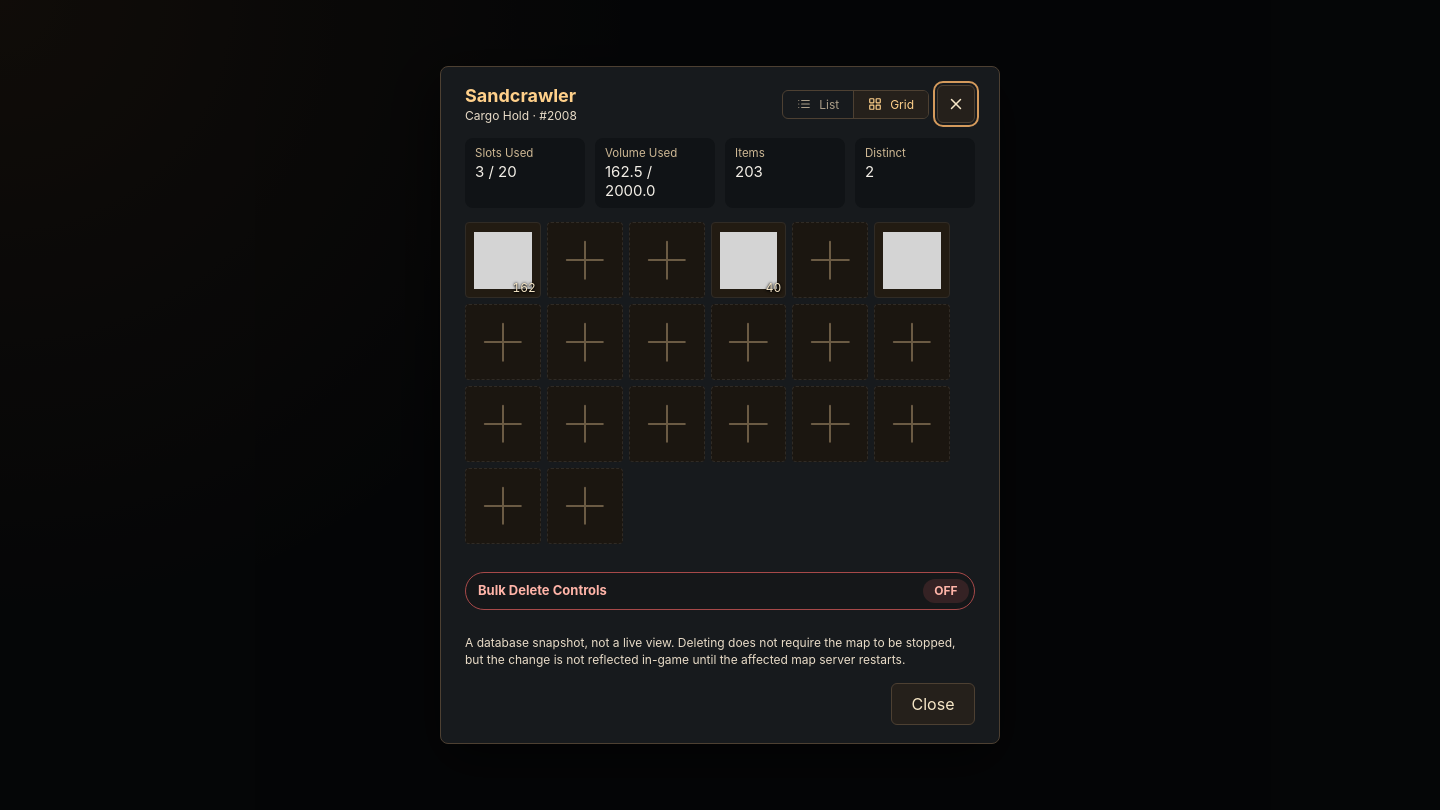
VehicleStorageOverlay deletion › deletes a whole stack and refetches the hold
This screenshot has width=1440, height=810.
Check: the text "Slots Used" is shown, box [475, 146, 533, 160]
Click the button "List": (818, 104) [783, 91, 853, 118]
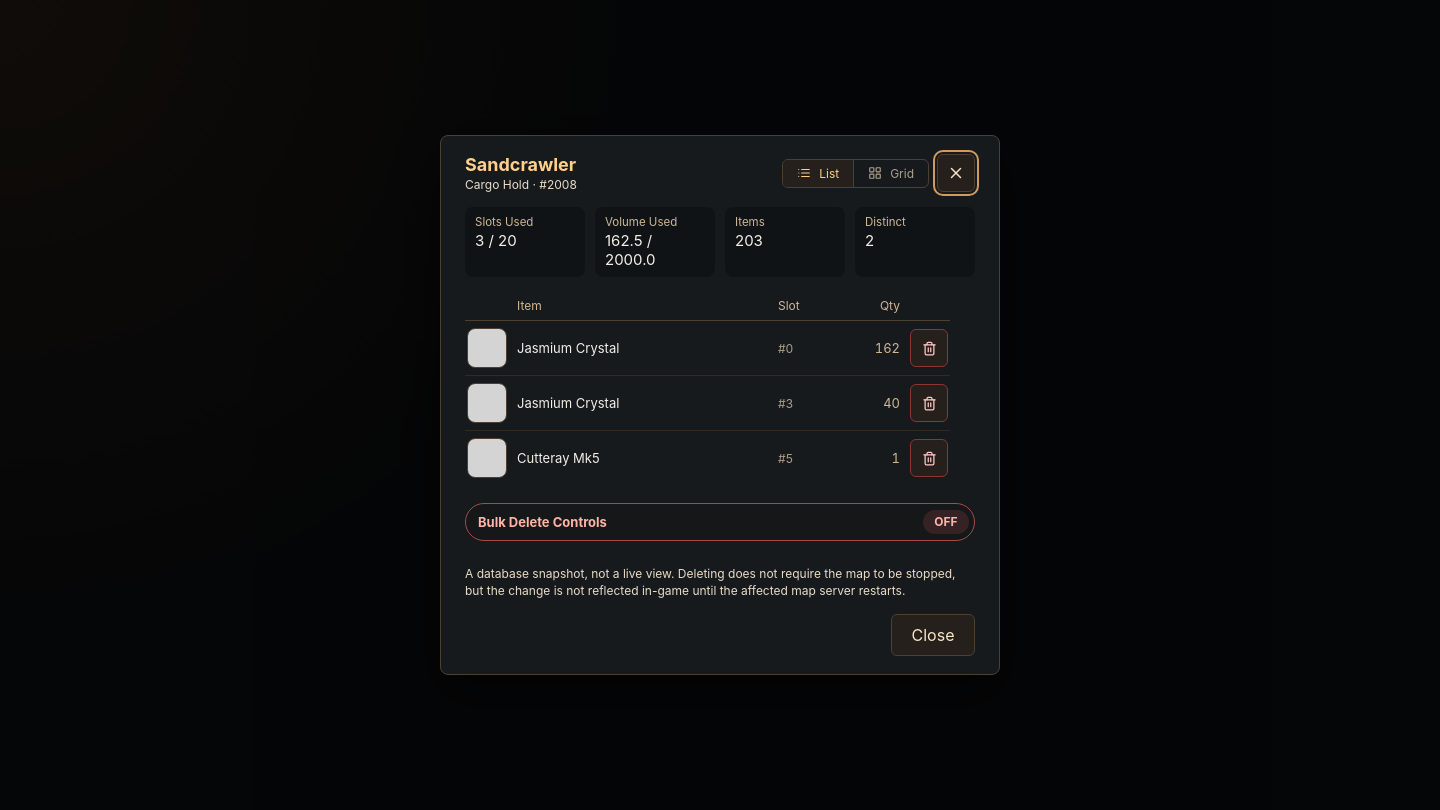
Check: the element with class "bases-inventory-contents-row" showing "Jasmium Crystal #0 162" is shown, box [465, 321, 950, 376]
Click the button named "Delete Jasmium Crystal from slot 0": (929, 348) [910, 329, 948, 367]
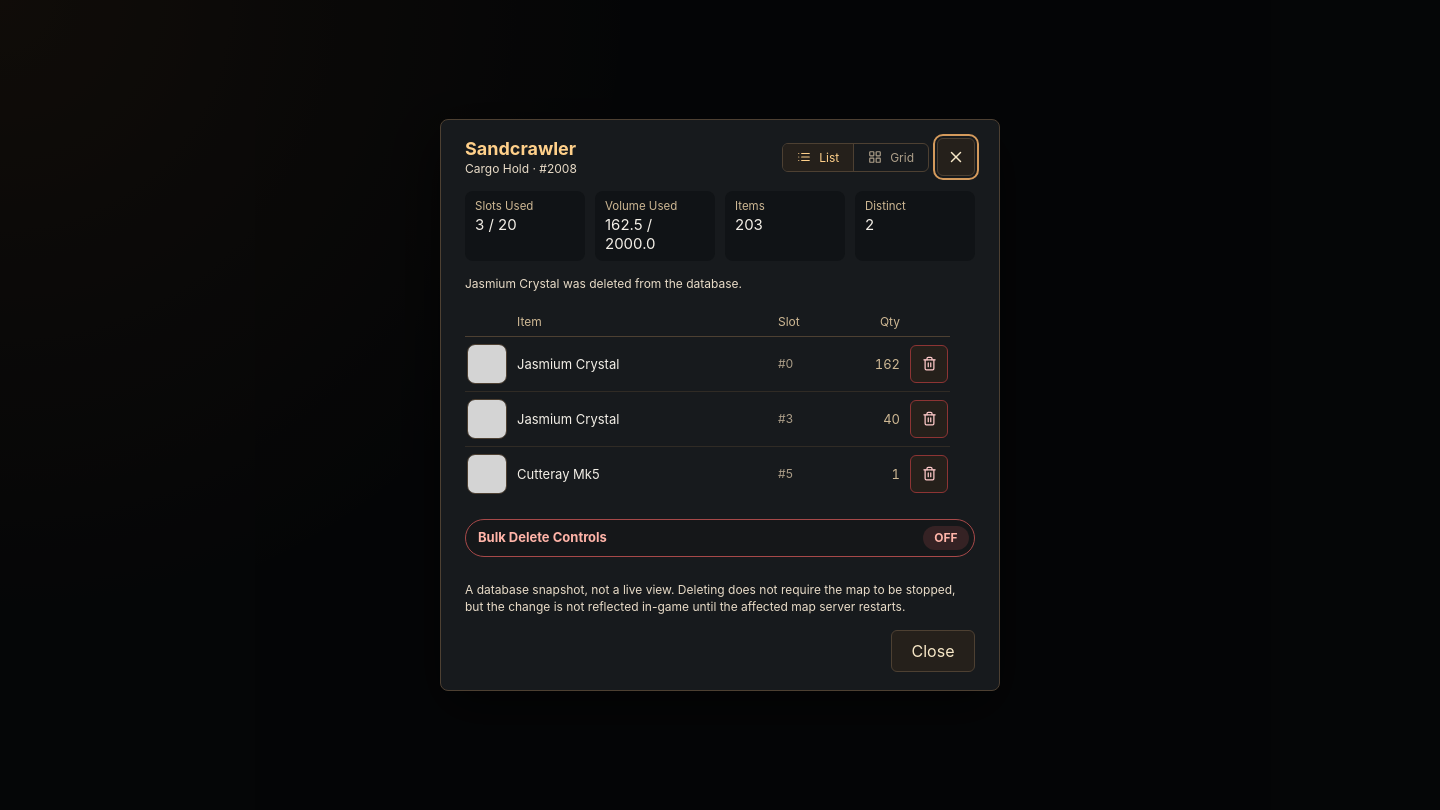
Check: the text "Jasmium Crystal was deleted from the database." is shown, box [465, 276, 742, 291]
